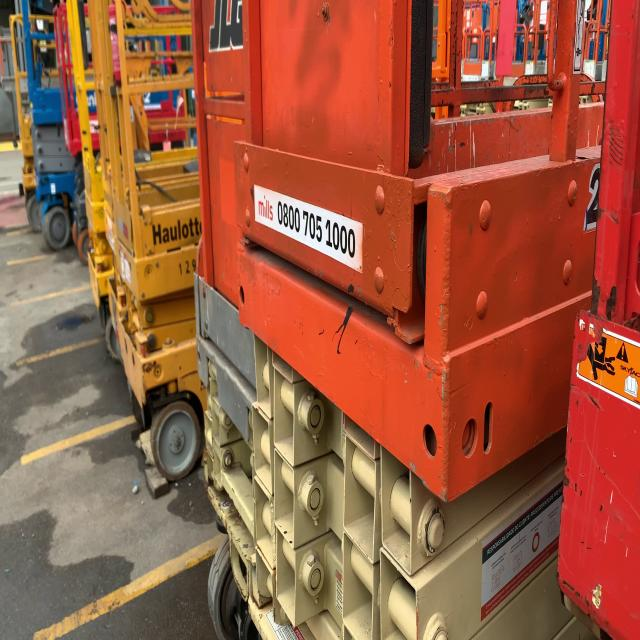Adesivo Longo: (252, 180, 365, 278)
